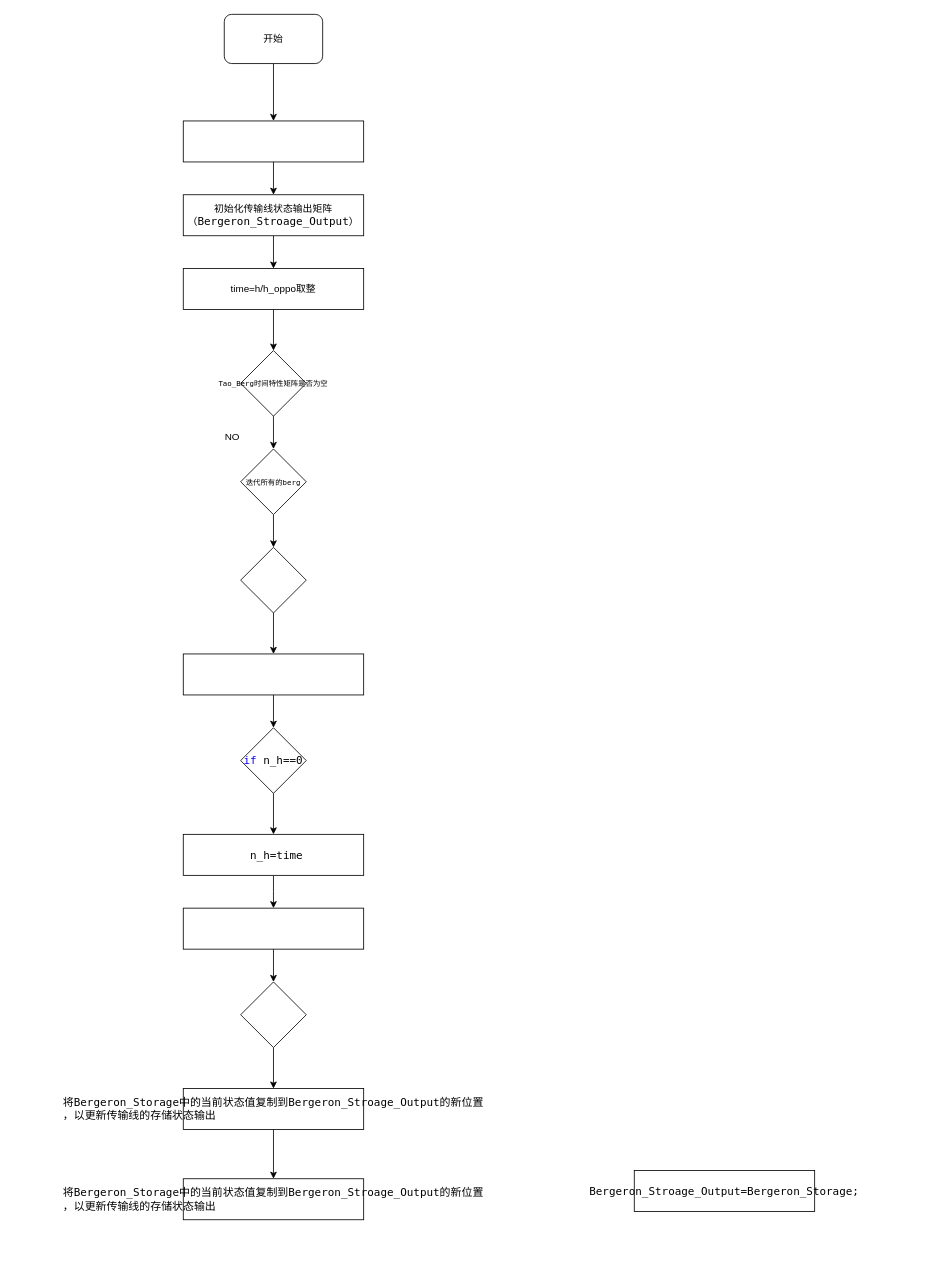
This 947x1286 diagram has some shape labels left out. The shapes that lost their labels are listed below. From the top down, each one's centre as x and y in pixels, then its label:
At point (273, 141): "初始化动态电路响应输入矩阵（ MHA_Bergeron_Input ）".
At point (273, 580): "if (time>1)".
At point (273, 674): "n_h= 在周期 time 内 i_step 的相对位置".
At point (273, 928): "使用当前时间步在周期内的相对位置来加权插值Bergeron_Storage中的状态值 ，更新MHA_Bergeron_Input".
At point (273, 1014): "n_h==time".
